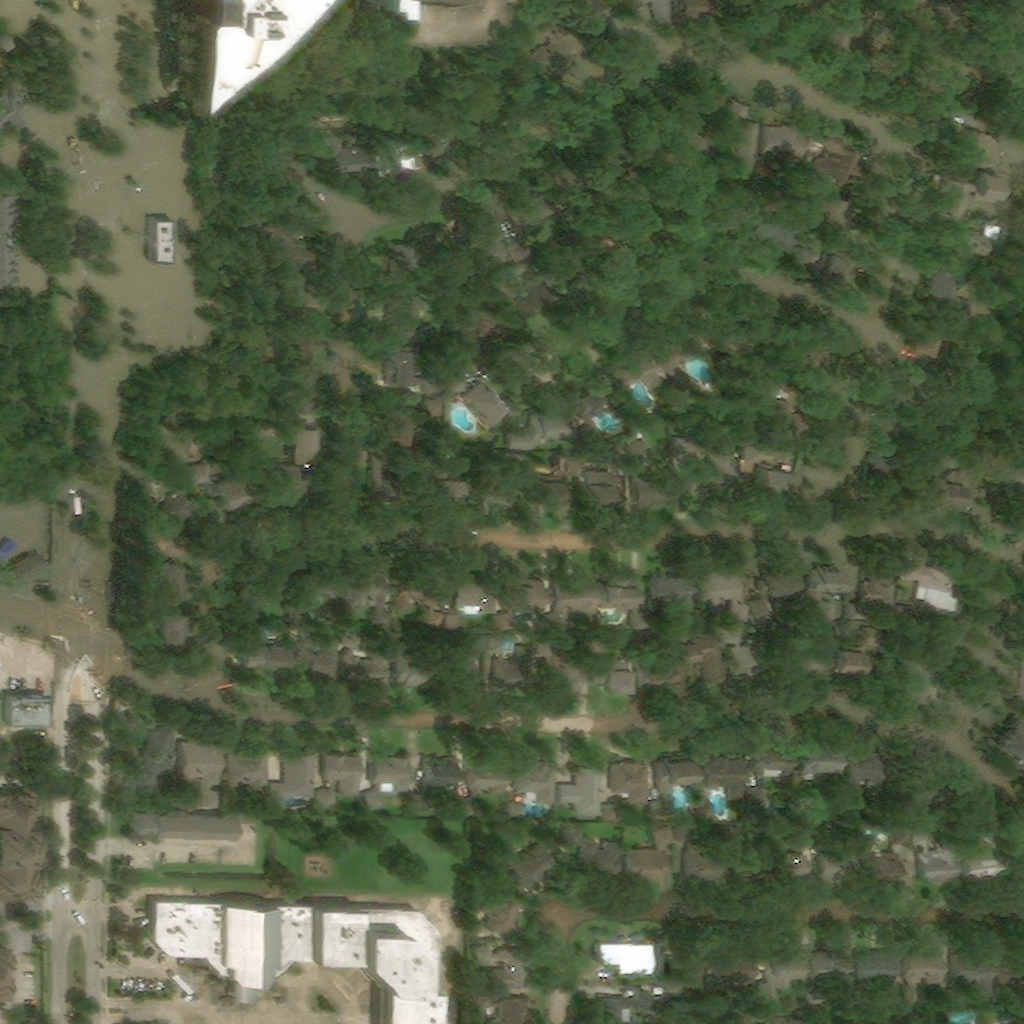destroyed: (755, 206, 801, 251), (908, 314, 938, 354), (825, 242, 861, 273), (810, 207, 835, 232), (807, 180, 826, 203), (951, 293, 969, 315), (989, 118, 1009, 136), (997, 97, 1014, 114)
major_damage: (157, 0, 229, 64), (814, 123, 863, 186), (700, 568, 753, 623), (904, 562, 961, 611), (929, 164, 994, 206), (679, 630, 727, 684), (510, 409, 568, 453), (757, 952, 803, 1005), (612, 349, 668, 391), (419, 113, 469, 158), (656, 327, 707, 371), (939, 214, 995, 254), (373, 0, 458, 26), (631, 464, 681, 508), (370, 134, 421, 177), (241, 624, 289, 669), (152, 488, 194, 539), (140, 545, 184, 593), (505, 185, 555, 226), (922, 611, 960, 664), (569, 381, 614, 425), (473, 216, 511, 267), (808, 951, 842, 1008), (299, 630, 340, 677), (603, 990, 659, 1023), (390, 295, 429, 341), (585, 453, 626, 496), (263, 462, 306, 503), (954, 951, 993, 996), (280, 367, 317, 414), (667, 948, 704, 995), (602, 944, 656, 976), (468, 380, 506, 424), (316, 134, 363, 169), (206, 472, 253, 506), (387, 344, 419, 390), (909, 659, 948, 695), (496, 950, 531, 990), (808, 566, 848, 601), (9, 552, 49, 586), (951, 122, 983, 164), (290, 318, 319, 364), (269, 220, 299, 263), (996, 713, 1022, 762), (284, 272, 317, 310), (906, 954, 945, 986), (0, 74, 25, 123), (141, 205, 165, 253), (686, 464, 720, 495), (389, 402, 416, 440), (477, 475, 515, 502), (871, 567, 898, 605), (758, 463, 797, 489), (778, 124, 806, 160), (929, 476, 963, 505), (291, 422, 317, 458), (858, 953, 899, 975), (834, 644, 865, 673), (995, 457, 1022, 490), (270, 164, 300, 193), (738, 120, 762, 156), (830, 10, 857, 42), (160, 607, 186, 638), (766, 566, 797, 590), (393, 263, 420, 290), (532, 477, 562, 501), (533, 12, 560, 38), (921, 258, 946, 286), (501, 998, 530, 1022), (484, 273, 509, 298), (790, 644, 818, 666), (652, 0, 676, 25), (186, 462, 213, 484), (423, 401, 444, 429), (436, 477, 459, 502), (710, 444, 733, 468), (556, 451, 578, 476), (461, 304, 486, 325), (475, 944, 497, 967), (0, 176, 5, 277), (678, 0, 711, 15), (510, 241, 530, 264), (536, 638, 558, 658), (260, 419, 282, 439), (865, 627, 884, 650), (452, 347, 471, 370), (424, 378, 445, 398), (772, 396, 793, 415), (729, 101, 750, 120), (581, 638, 603, 656), (999, 952, 1022, 969), (676, 438, 697, 456), (901, 989, 920, 1008), (449, 372, 469, 390), (819, 602, 837, 622), (849, 602, 867, 622), (379, 483, 399, 501), (628, 439, 649, 456), (962, 456, 978, 476), (949, 989, 966, 1007), (853, 995, 874, 1009), (732, 646, 747, 665), (744, 445, 760, 462), (736, 1008, 753, 1023), (266, 141, 282, 156), (724, 628, 738, 645), (772, 1016, 789, 1023), (940, 1016, 956, 1023), (792, 1018, 810, 1023)
minor_damage: (391, 632, 487, 689), (181, 741, 223, 809), (130, 726, 176, 786), (347, 571, 397, 623), (626, 827, 674, 881), (913, 829, 962, 881), (270, 750, 316, 803), (558, 763, 603, 817), (510, 844, 559, 888), (678, 826, 721, 875), (556, 579, 598, 623), (612, 760, 651, 807), (475, 894, 522, 932), (325, 753, 363, 799), (850, 752, 890, 794), (517, 760, 556, 803), (452, 576, 496, 614), (490, 637, 527, 682), (658, 755, 698, 795), (705, 753, 747, 790), (398, 576, 440, 613), (470, 759, 508, 797), (228, 750, 270, 784), (600, 576, 638, 612), (591, 659, 632, 692), (372, 756, 409, 792), (544, 659, 581, 692), (659, 572, 696, 605), (752, 744, 795, 772), (507, 576, 548, 604), (962, 850, 1004, 877), (804, 745, 842, 774), (583, 840, 623, 867), (426, 758, 459, 786), (872, 853, 902, 877), (819, 852, 841, 884), (302, 574, 333, 596), (778, 851, 810, 871), (253, 576, 282, 598), (342, 630, 365, 654), (366, 791, 390, 813), (318, 789, 340, 812), (498, 612, 521, 634), (652, 799, 676, 819), (460, 797, 481, 819), (797, 790, 818, 810), (795, 828, 814, 848), (565, 825, 583, 845), (979, 827, 995, 848), (414, 795, 431, 813), (604, 805, 621, 823), (896, 828, 913, 846), (510, 801, 528, 817), (372, 649, 387, 668), (700, 801, 716, 817), (447, 613, 461, 625)
no_damage: (151, 893, 438, 1023), (0, 785, 36, 896), (132, 811, 234, 840), (10, 691, 51, 730)
